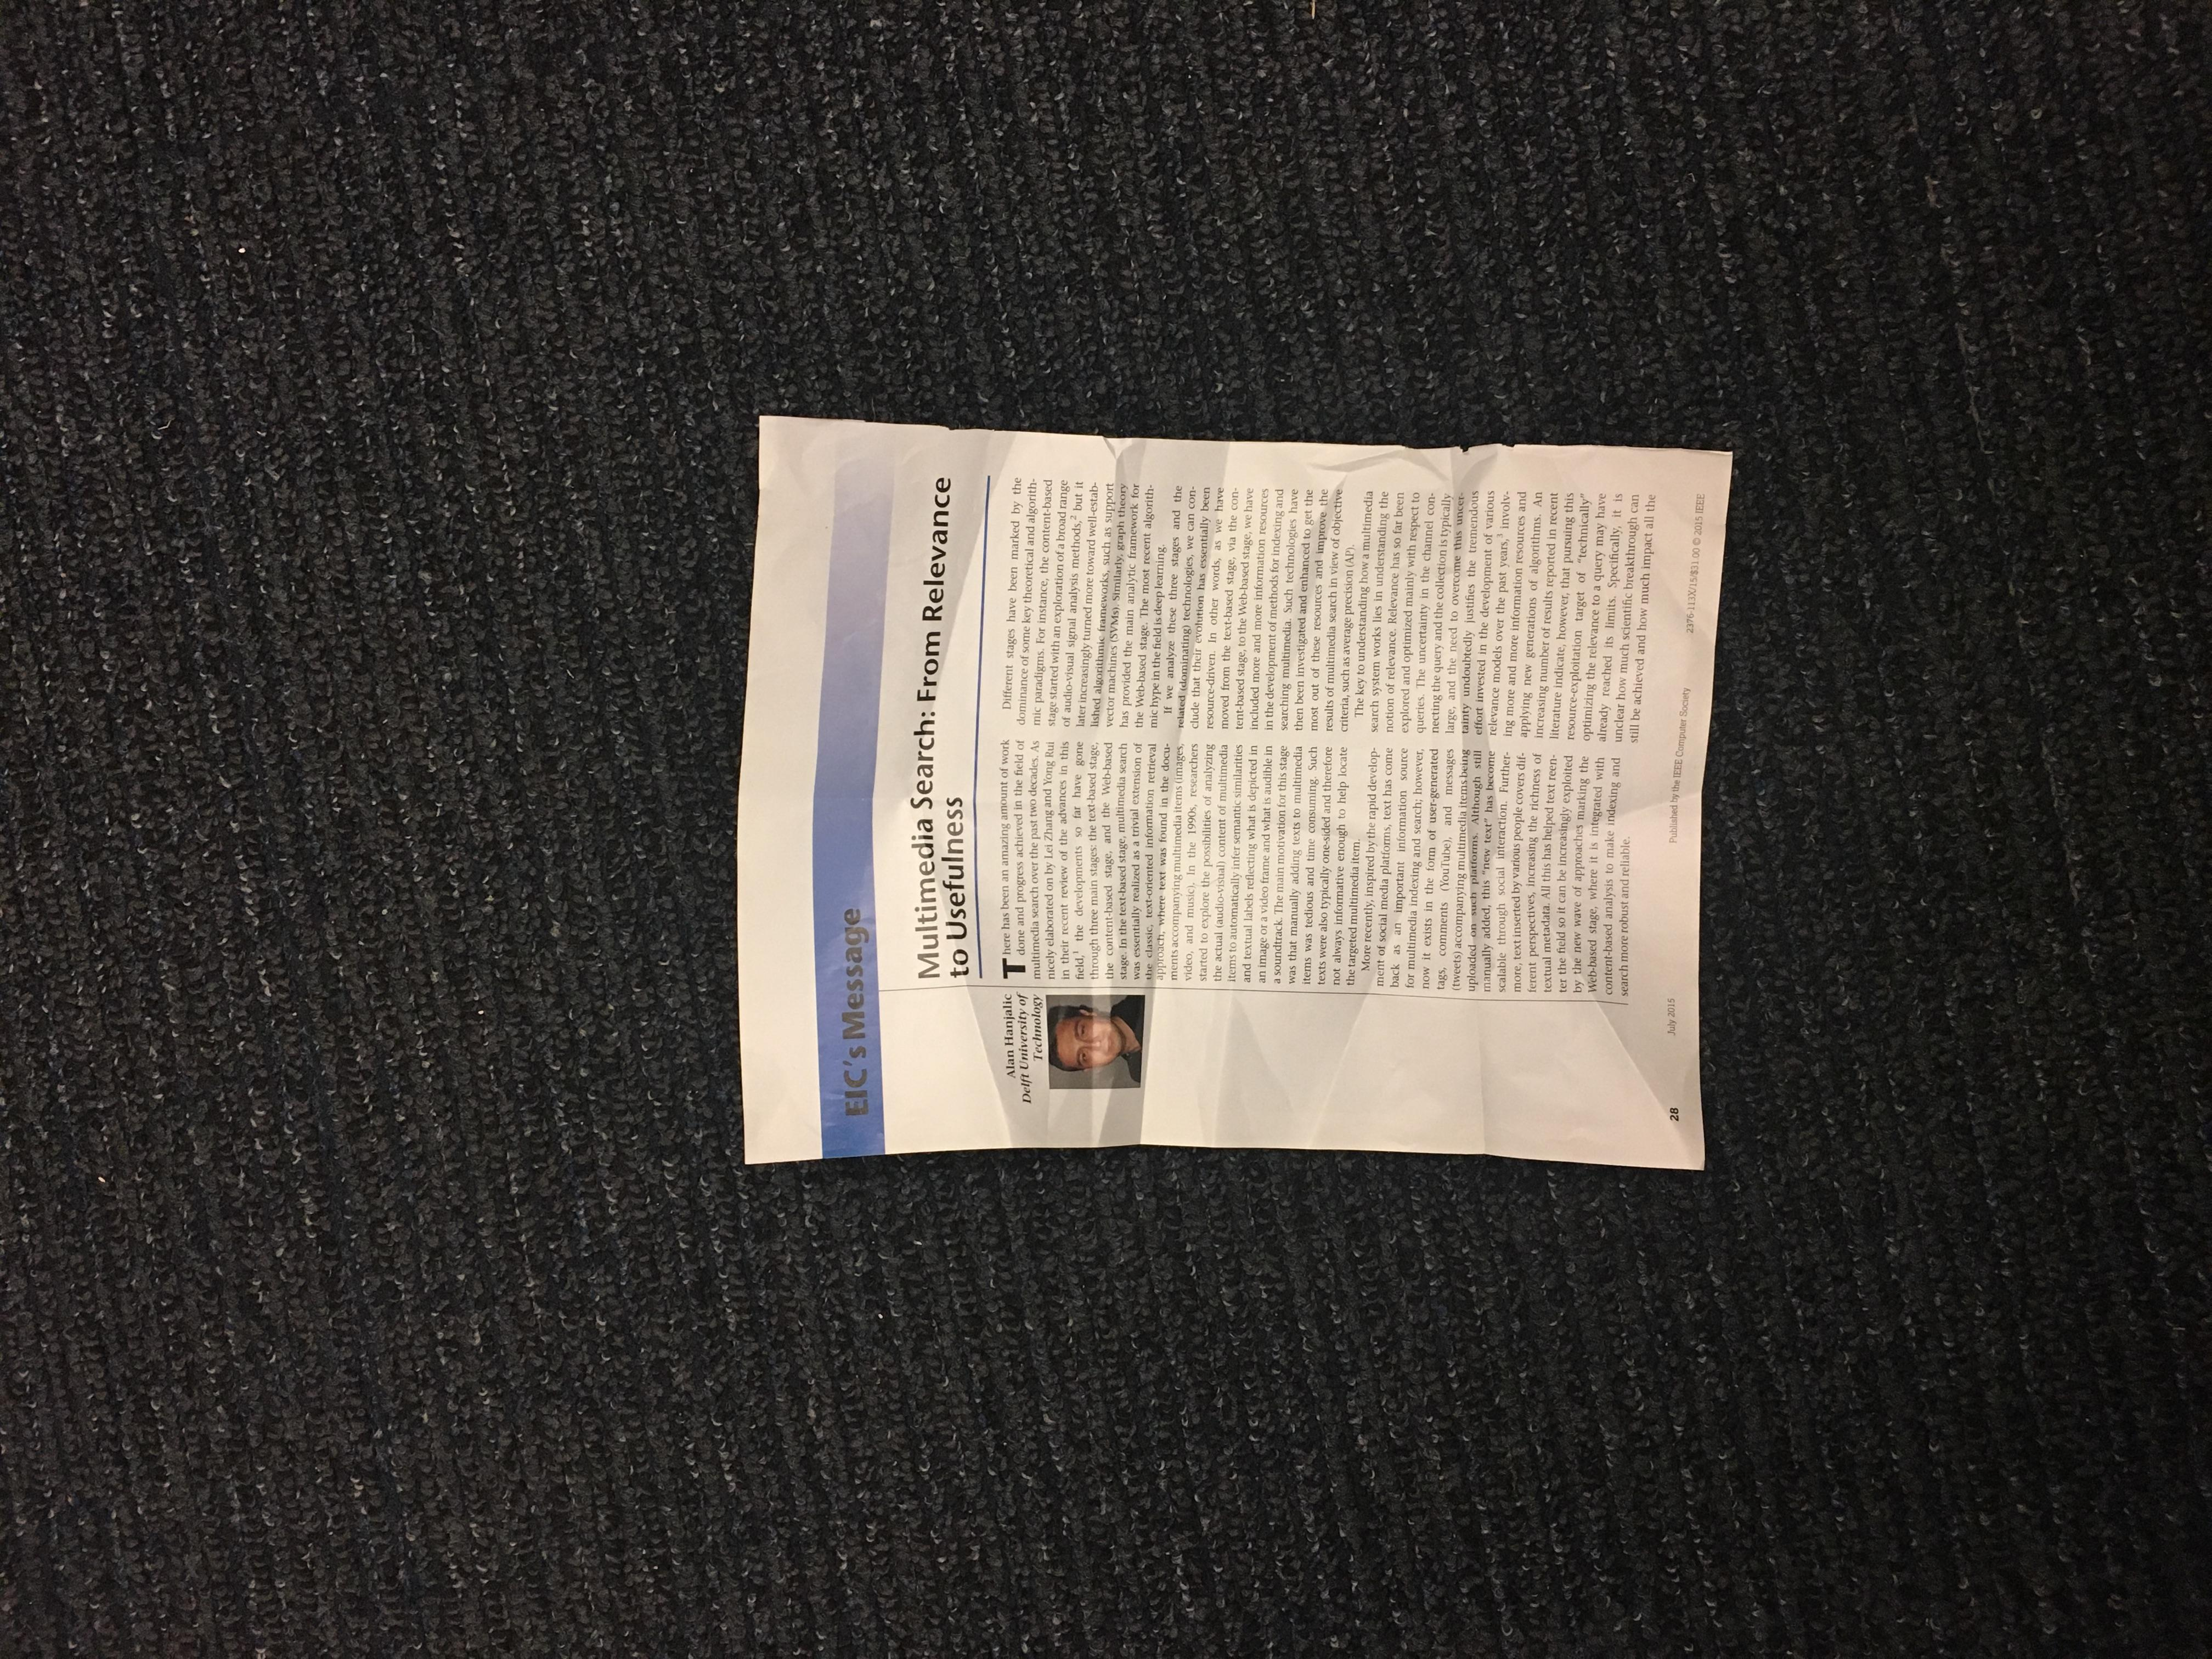paper: (482, 467, 2010, 1424)
